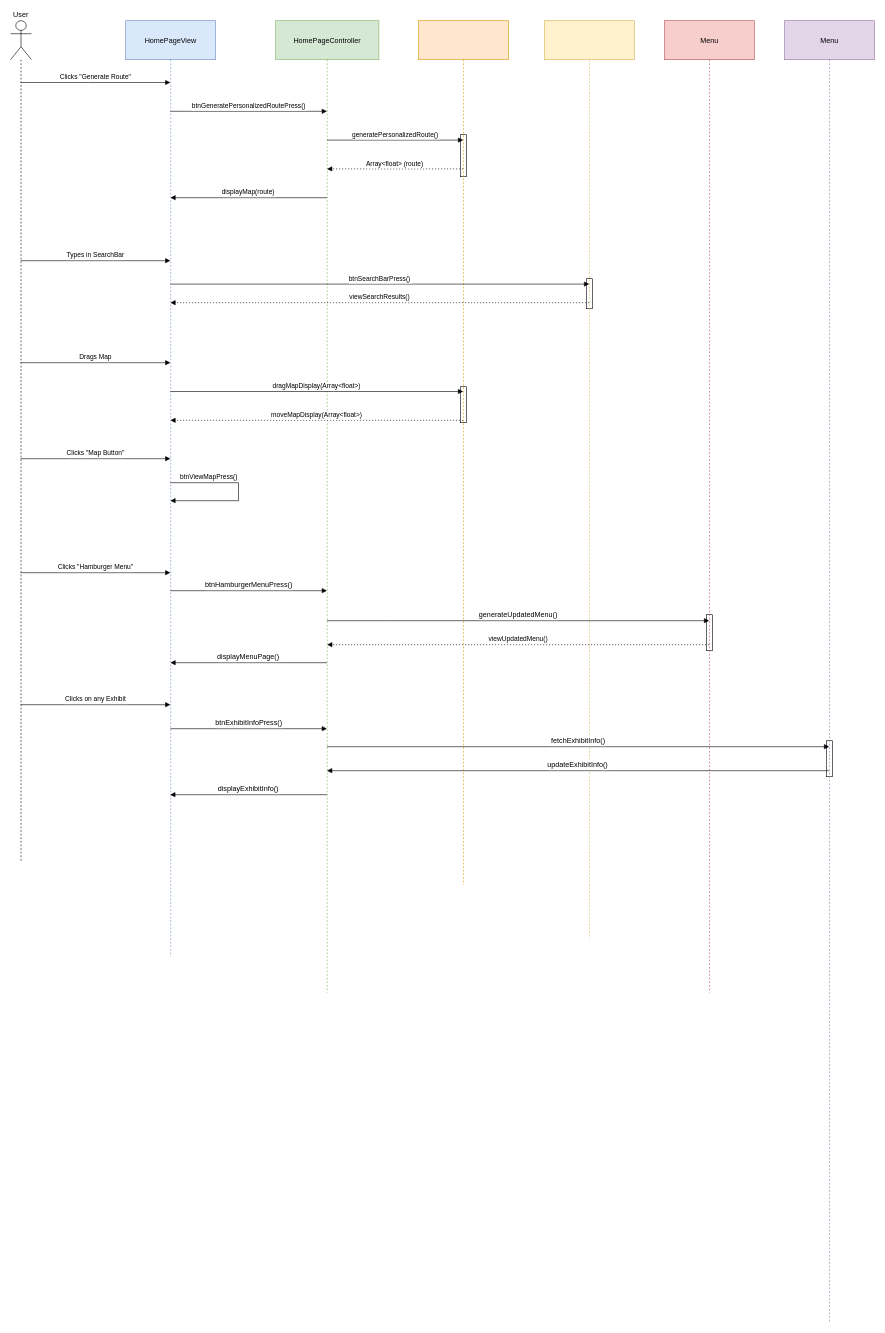
The diagram is 885 pixels wide and 1333 high, and some of its shapes have lost their labels. The shapes that lost their labels are listed below. From the top down, each one's box as (x1, y1, x2, y2) in pixels, then its label:
(418, 20, 508, 885): RouteGenerator
(544, 20, 634, 939): SearchBar
